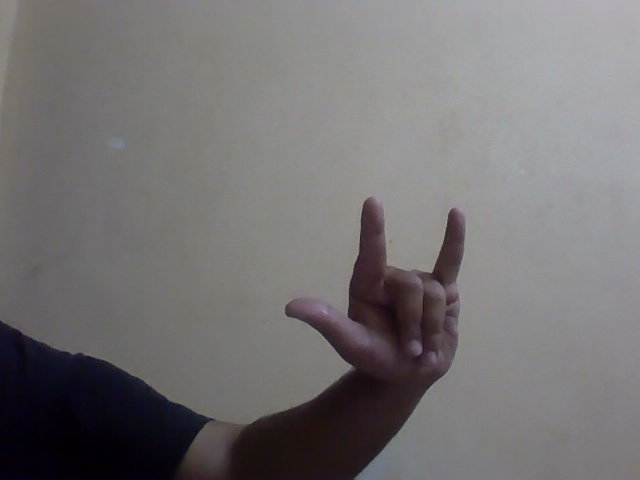I love you: (274, 187, 490, 405)
